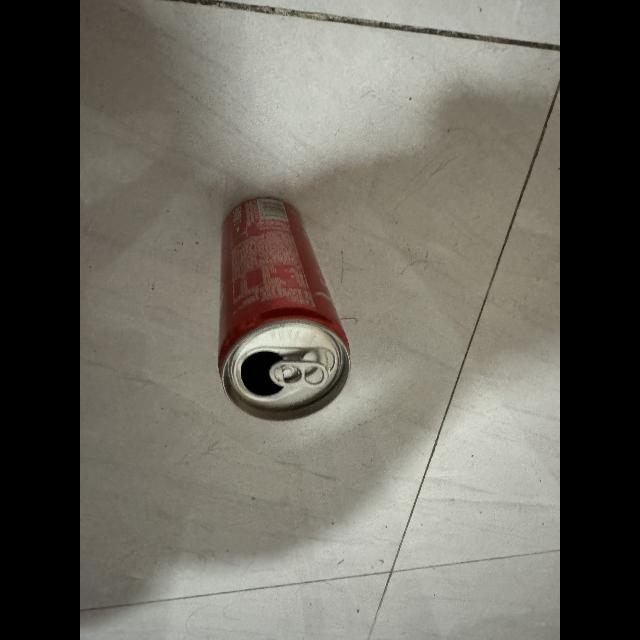Cola: (213, 188, 361, 426)
